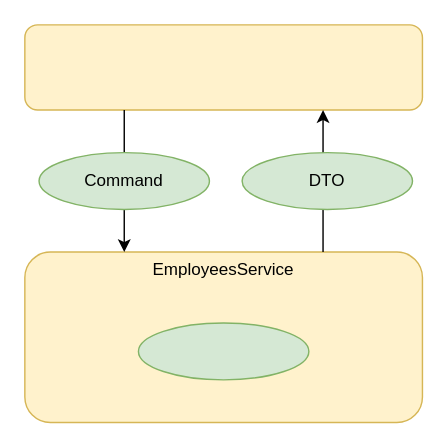
The diagram is 447 pixels wide and 447 high, and some of its shapes have lost their labels. Each missing label, with the box of its shape:
EmployeesController: (23, 23, 422, 110)
Entity: (137, 322, 309, 380)
